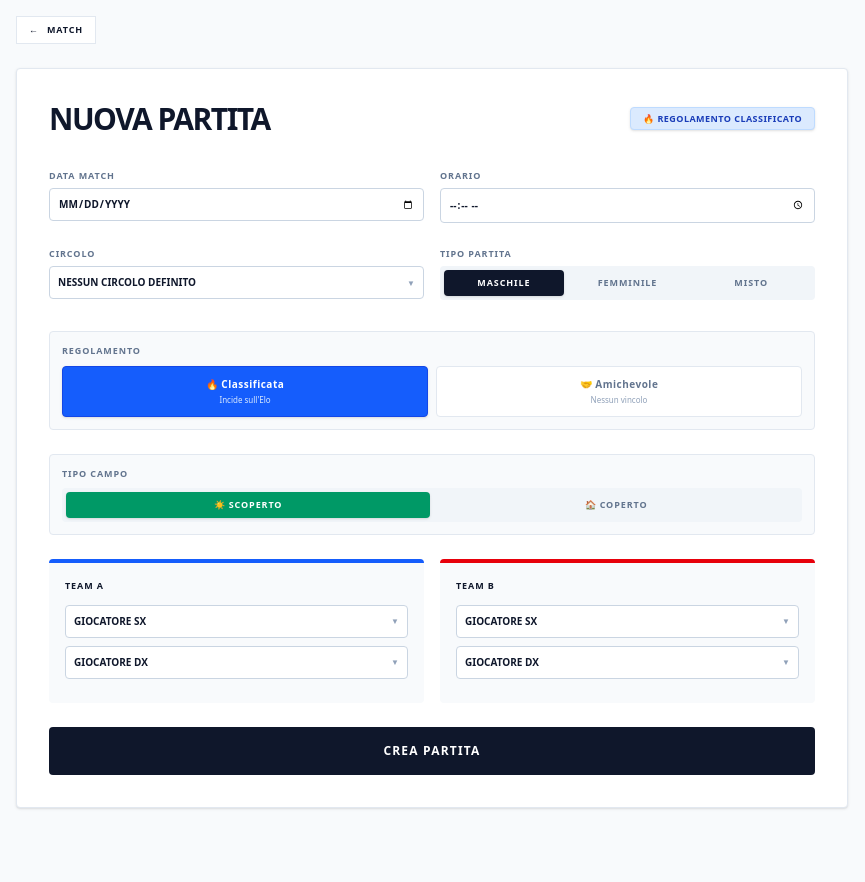
Scenario: CreateMatchForm Component (Page Integration) › in modalità AMICHEVOLE, un giocatore SX dovrebbe apparire anche nel dropdown DX
Expected: the heading "Nuova Partita" is shown, 49,100 -> 270,136
Click the text "🤝 Amichevole": (619, 384) 580,376 -> 658,392
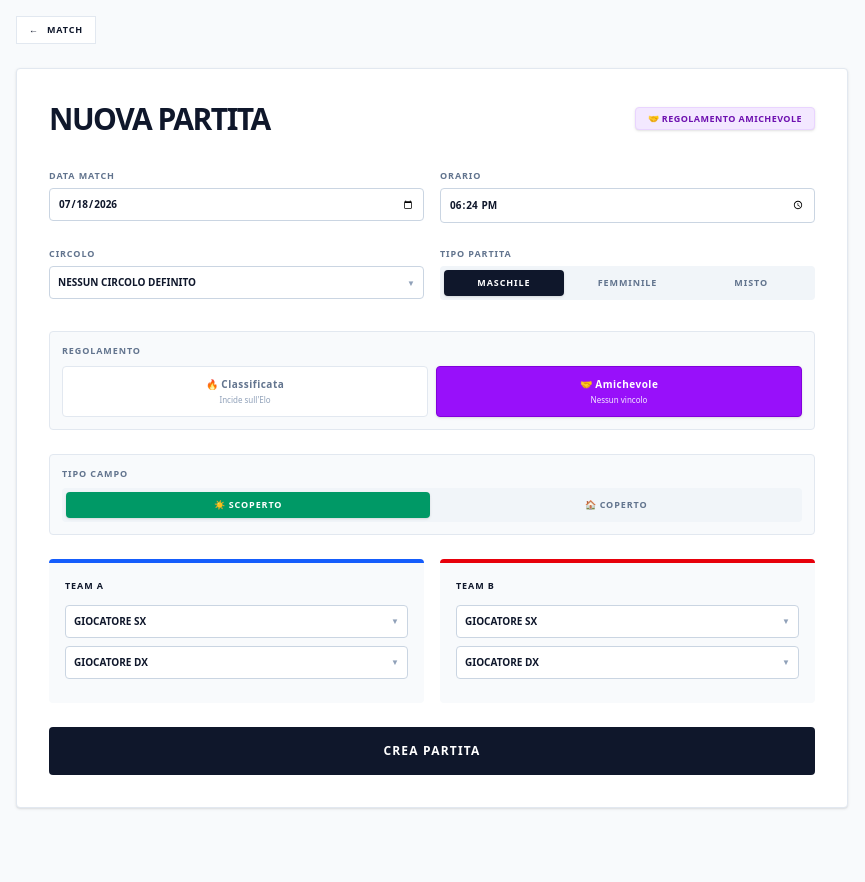
Click the text "GIOCATORE DX" below "TEAM A": (111, 662) 74,654 -> 148,670
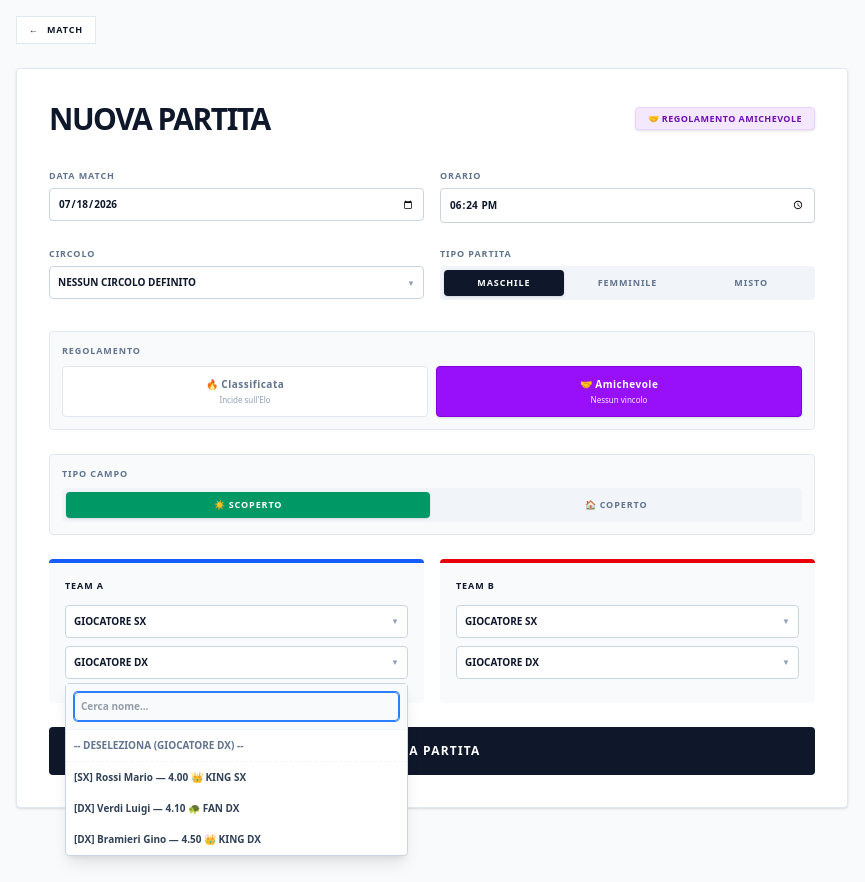
Now the text "[SX] Rossi Mario — 4.00 👑 KING SX" is shown, box 74,770 -> 246,784
